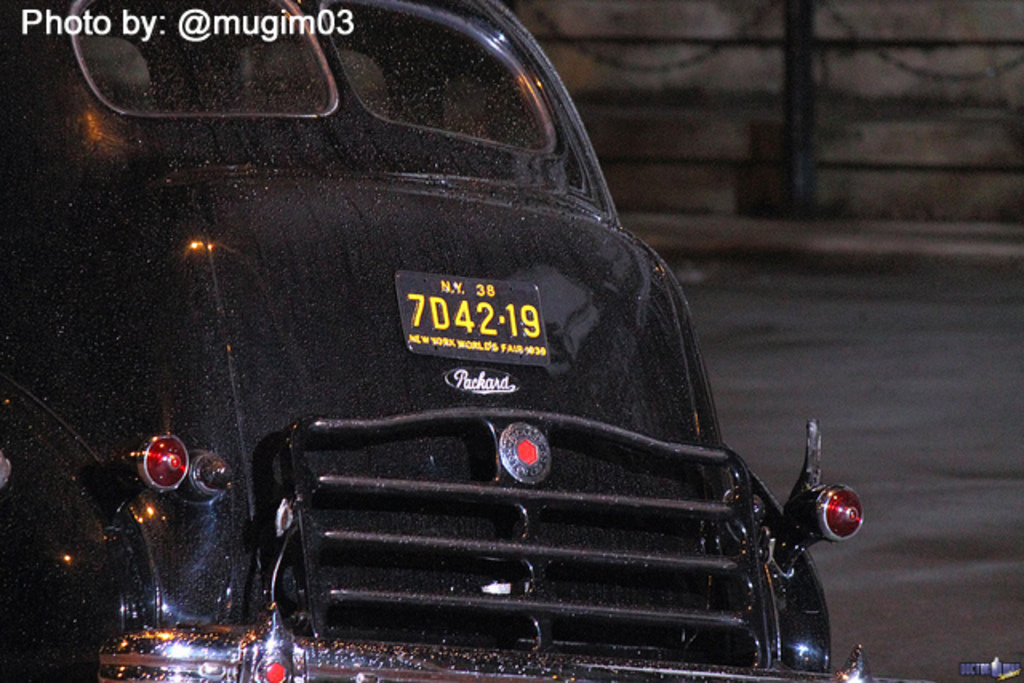Car: (0, 0, 865, 681)
